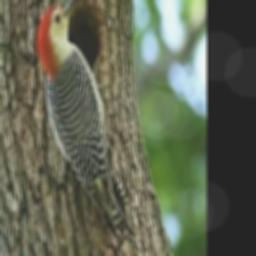Woodpecker: (37, 0, 137, 250)
